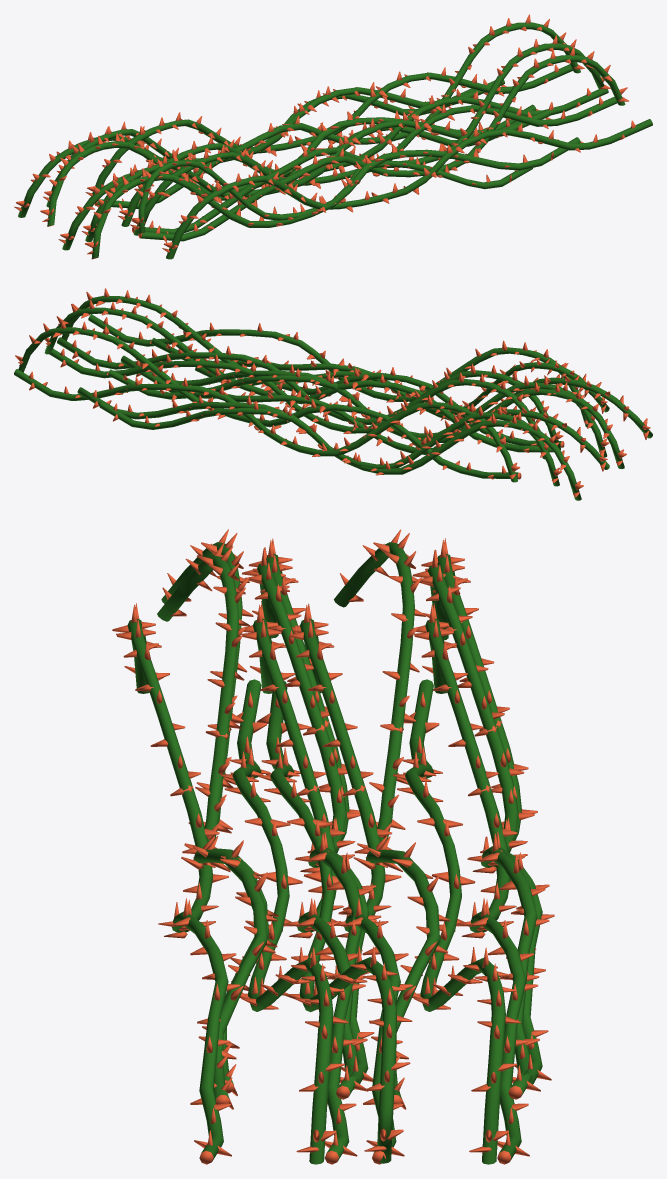
Rendered from PLĄCZA.fbx.
3 renders of one model, top to bottom at view 1: azimuth 30°, elevation 25°; view 2: azimuth 150°, elevation 25°; view 3: azimuth 270°, elevation 25°, orthographic. The views are drawn at different scales.
Visible parts, largest first — view 1: Cube.005; view 2: Cube.005; view 3: Cube.005.
Boxes of the visible parts, x1,y1,x2,y2 form: Cube.005: (14, 14, 652, 259); Cube.005: (14, 288, 652, 500); Cube.005: (112, 529, 554, 1164).
Bounding box in the file's own units: 5352 × 973 × 1831.
